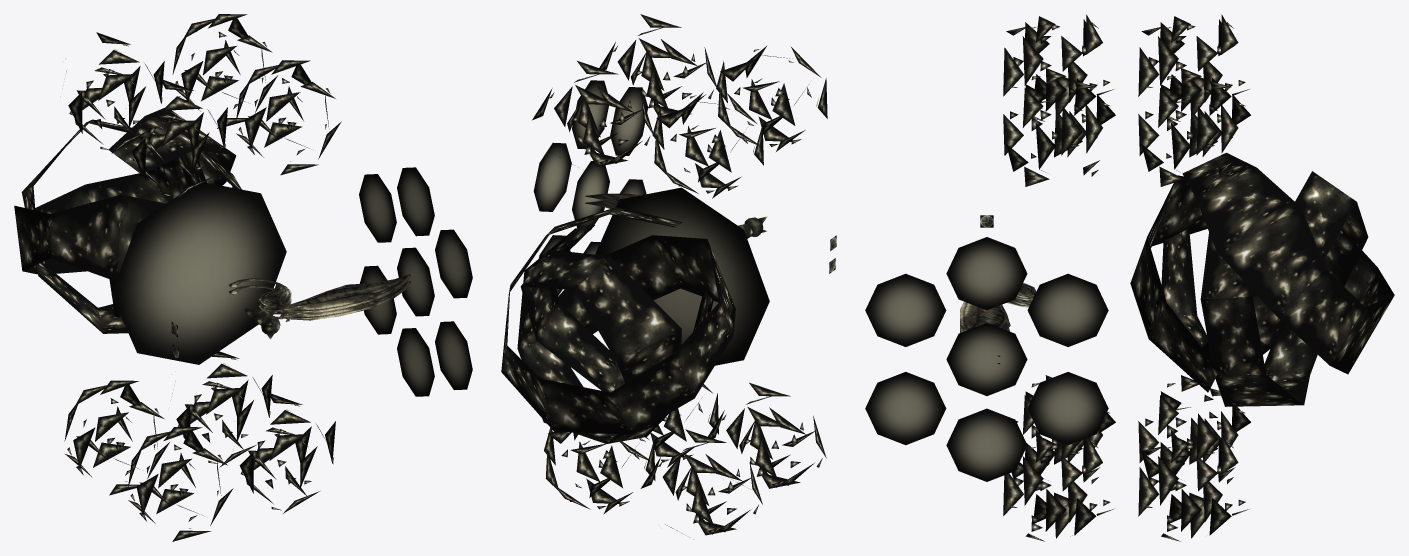
3 views of the same model, side by side, from view 1: azimuth 30°, elevation 25°; view 2: azimuth 150°, elevation 25°; view 3: azimuth 270°, elevation 25° (orthographic). The views are drawn at different scales.
Visible parts, largest first — view 1: M_0015_0; view 2: M_0015_0; view 3: M_0015_0.
Boxes of the visible parts, <box> form: M_0015_0: <box>14,14,472,541</box>; M_0015_0: <box>501,14,836,537</box>; M_0015_0: <box>865,14,1394,541</box>.
Bounding box in the file's own units: 4.25 × 6.93 × 7.05.
Materials: 1 (1 with a texture image).
